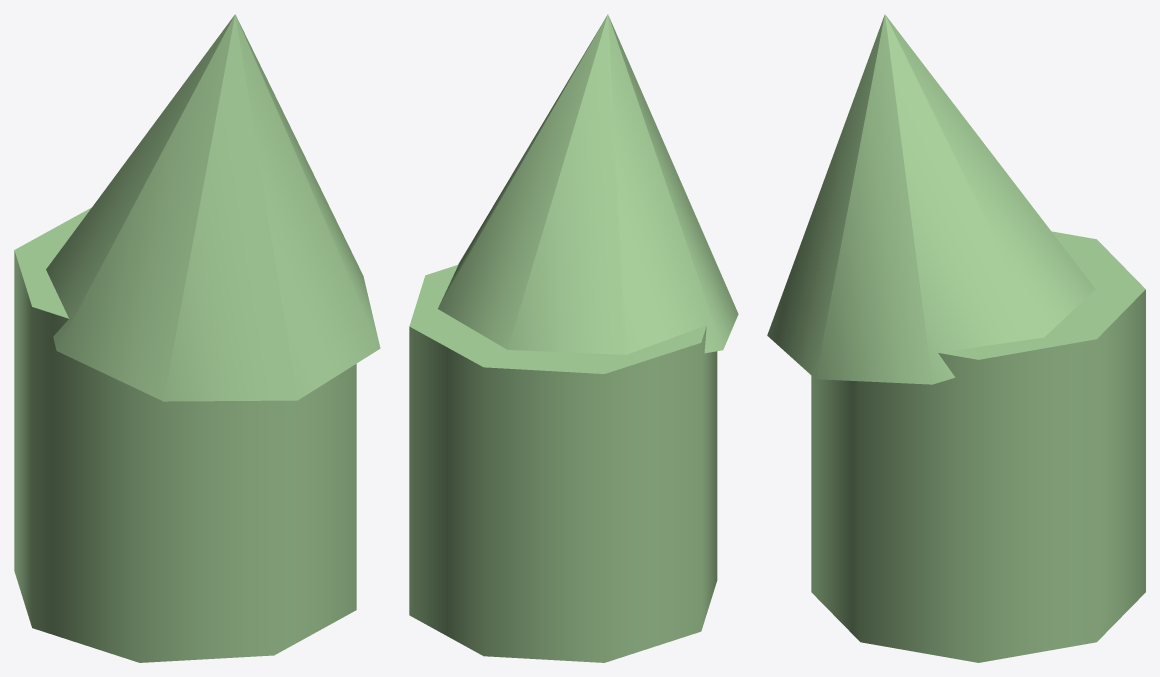
File: anitower.glb
The picture shows the model from 3 angles, left to right: view 1: azimuth 30°, elevation 25°; view 2: azimuth 150°, elevation 25°; view 3: azimuth 270°, elevation 25°; orthographic projection. The views are drawn at different scales.
Visible parts, largest first — view 1: cylinder, cone; view 2: cylinder, cone; view 3: cylinder, cone.
Part boxes in pixels (x1,y1,x2,y2): cylinder: (14, 207, 356, 662); cone: (46, 14, 380, 401); cylinder: (409, 264, 717, 662); cone: (438, 14, 738, 354); cylinder: (811, 231, 1145, 662); cone: (767, 14, 1095, 384).
Size of the model in its own units: 2 by 3.82 by 2.26.
